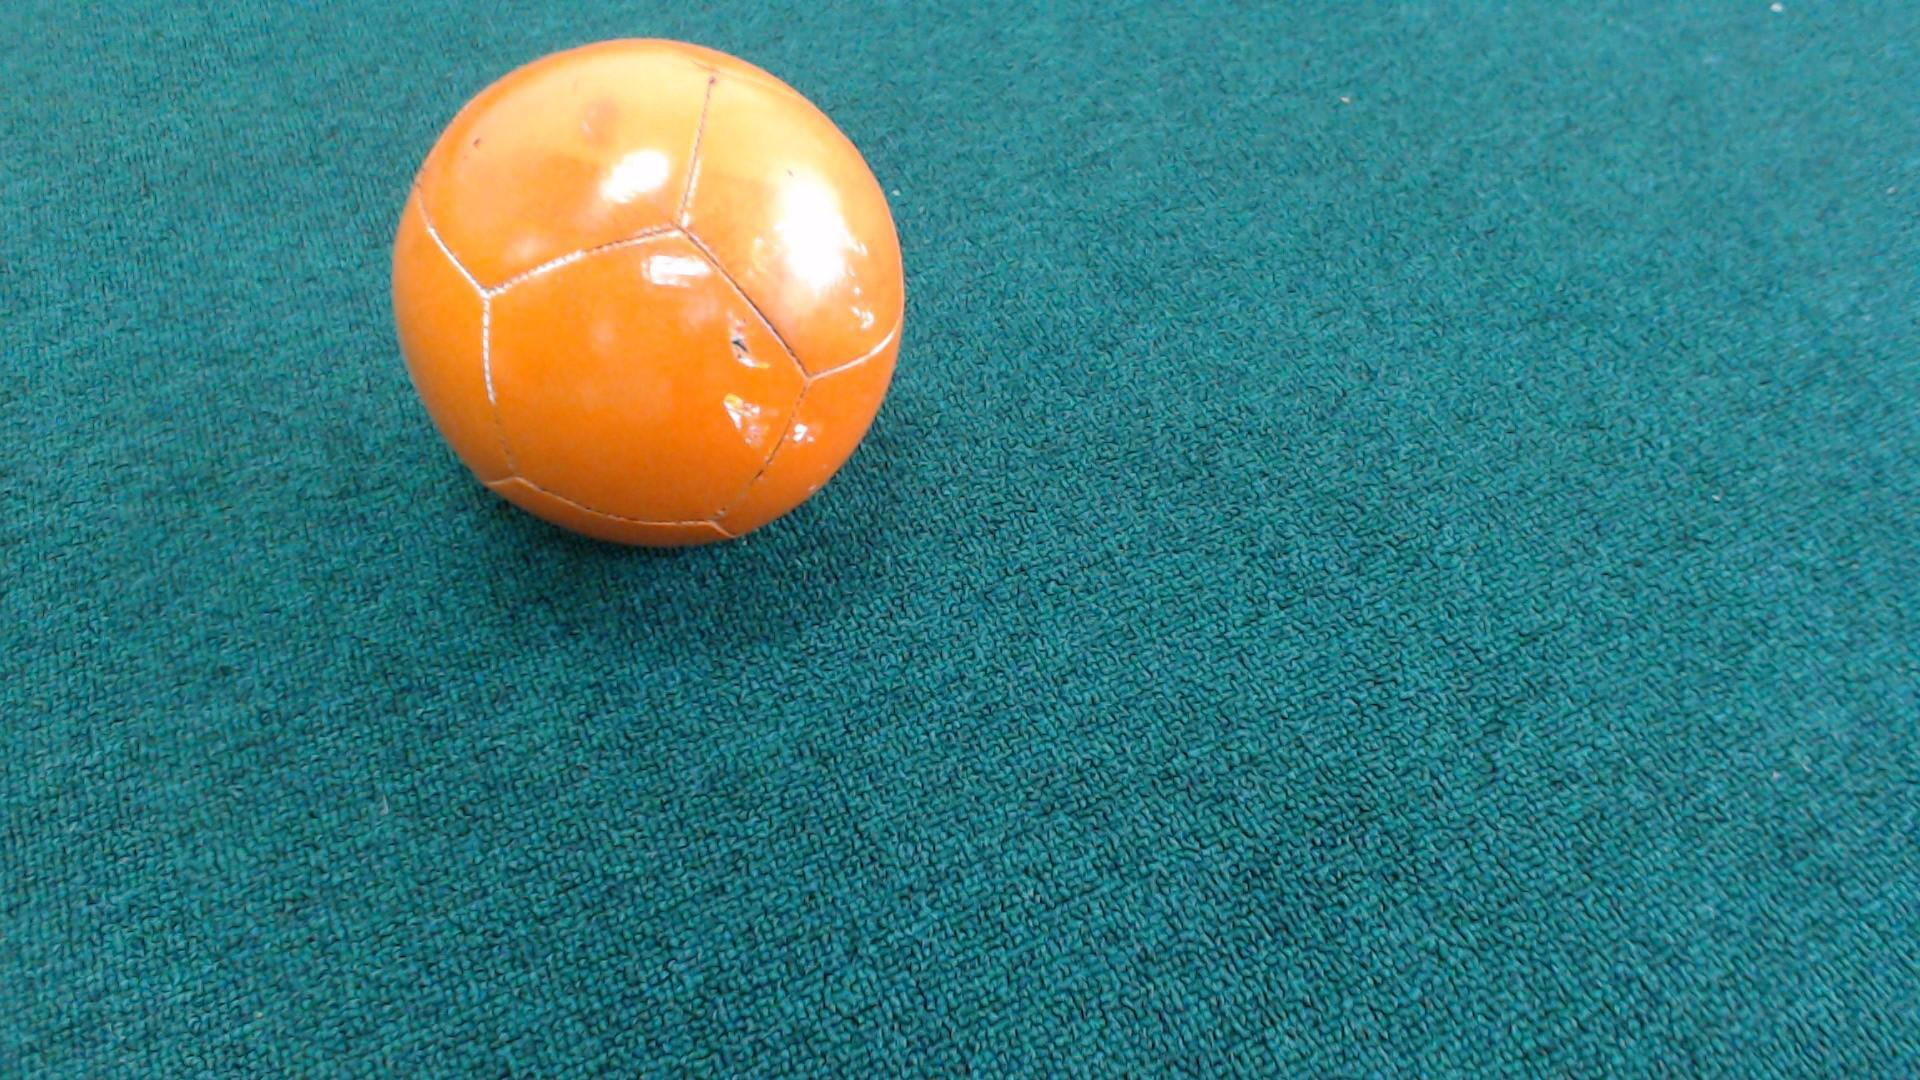bola: (361, 22, 930, 574)
